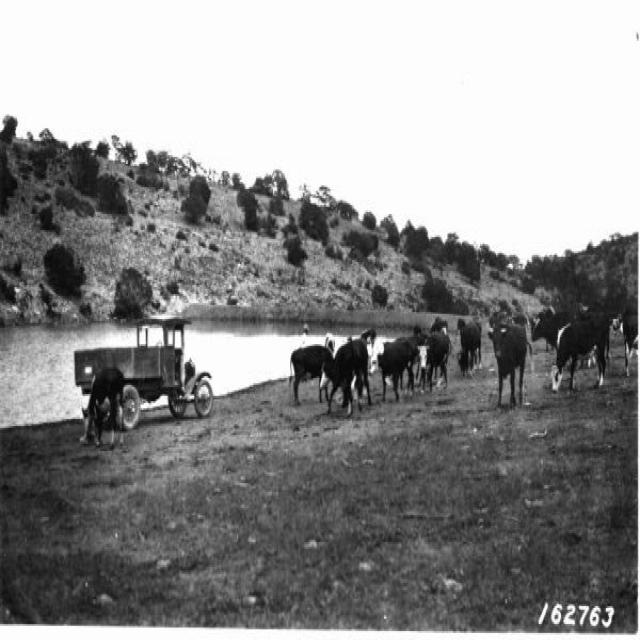Vehicle: (73, 314, 214, 427)
